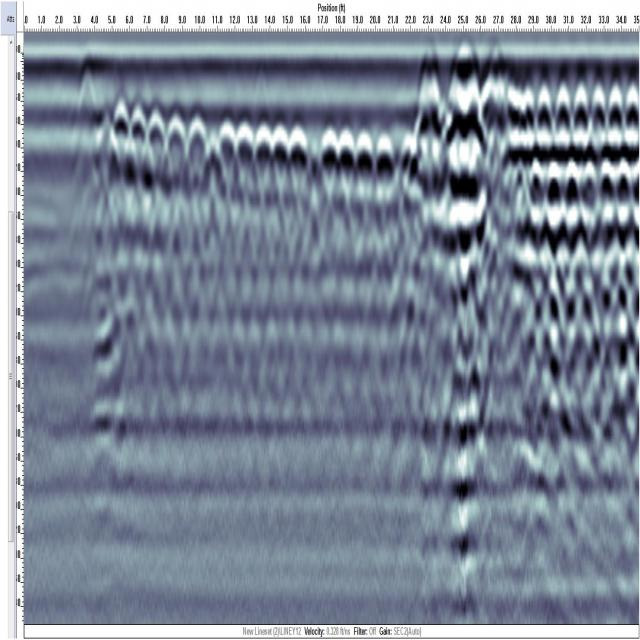hyperbola: (352, 123, 377, 209), (334, 122, 358, 206), (250, 121, 276, 197), (142, 101, 170, 168), (287, 120, 310, 200), (373, 126, 396, 204), (269, 121, 292, 198), (215, 118, 240, 186), (320, 124, 340, 204)
